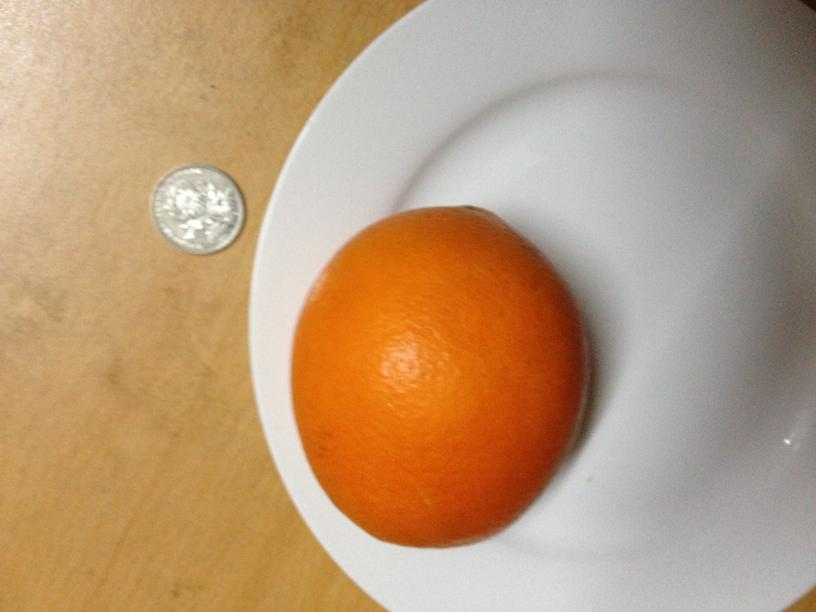coin: (148, 164, 243, 253)
orange: (281, 198, 590, 544)
